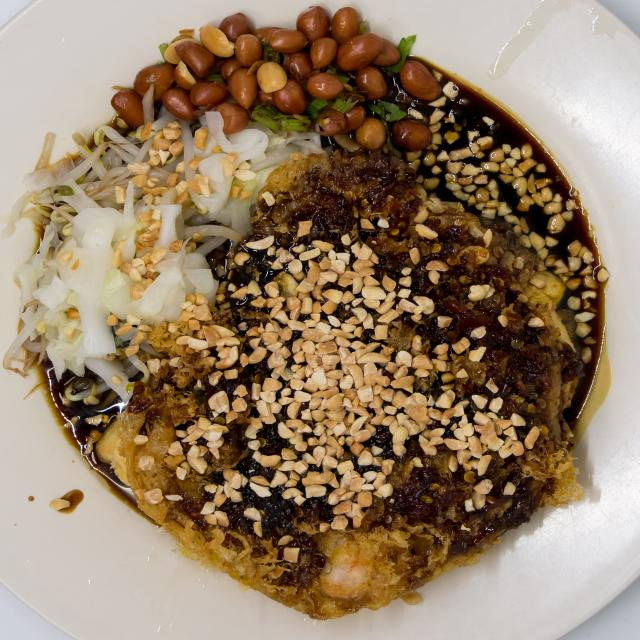Tahu-Telur: (23, 4, 614, 618)
